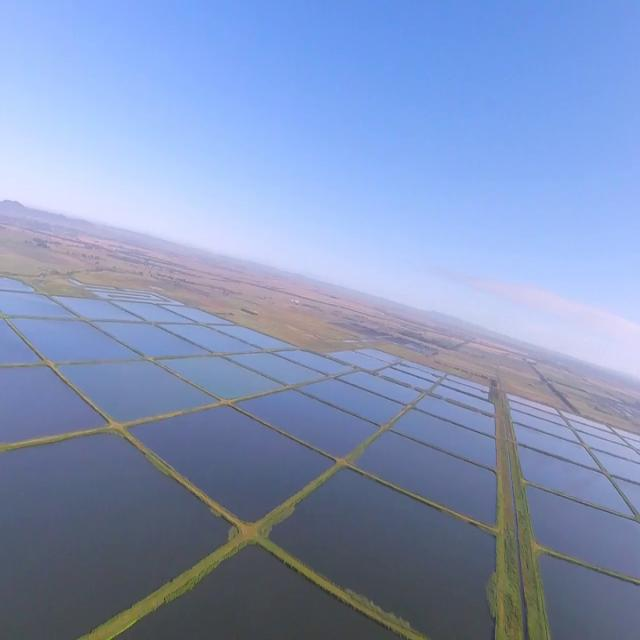iha: (290, 299, 306, 303)
